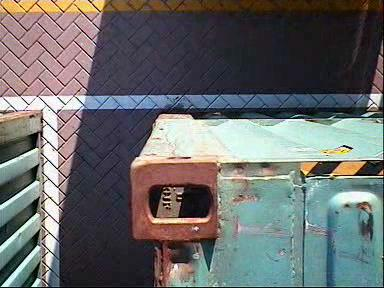groundmarker_2: (159, 114, 235, 235)
